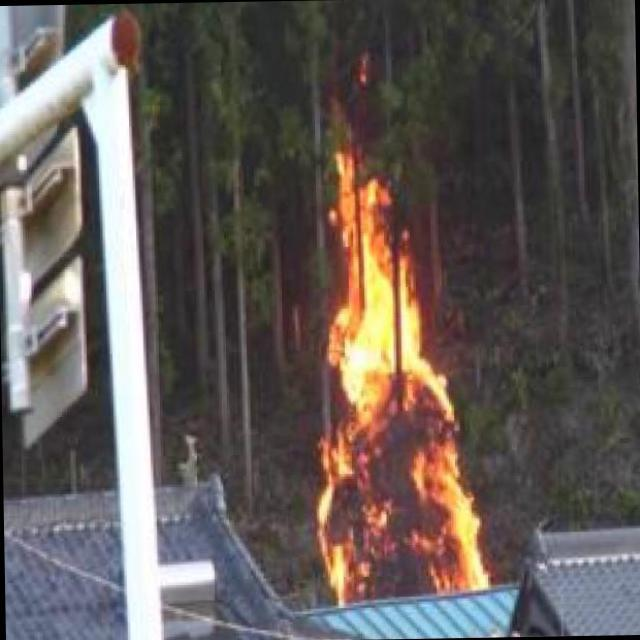Fire: (317, 173, 485, 604)
